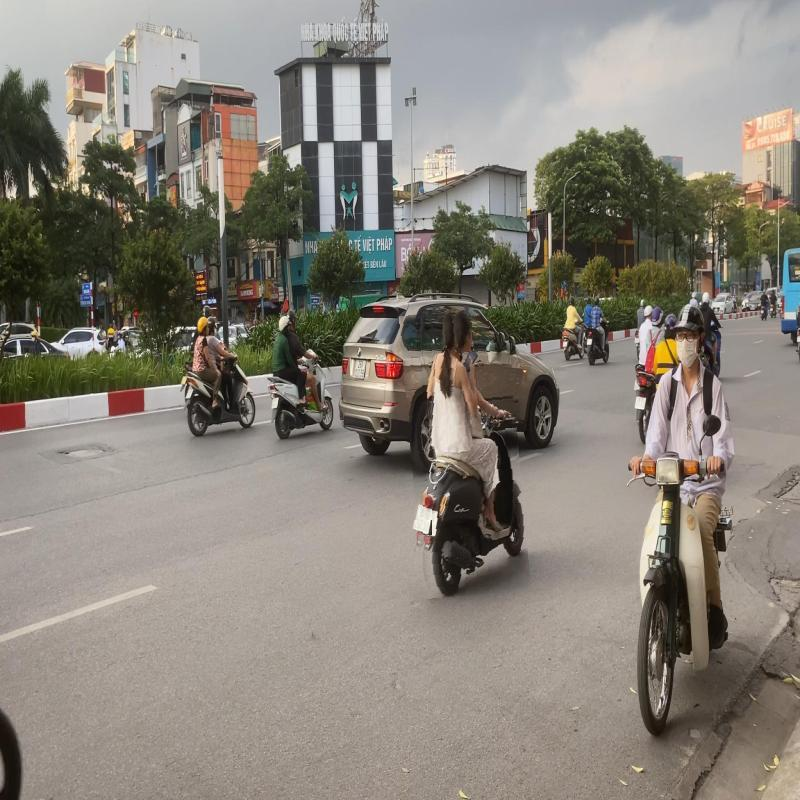licenseplate: (413, 504, 432, 535)
motorcyclist: (405, 309, 525, 597)
nohelmet: (452, 310, 473, 353)
